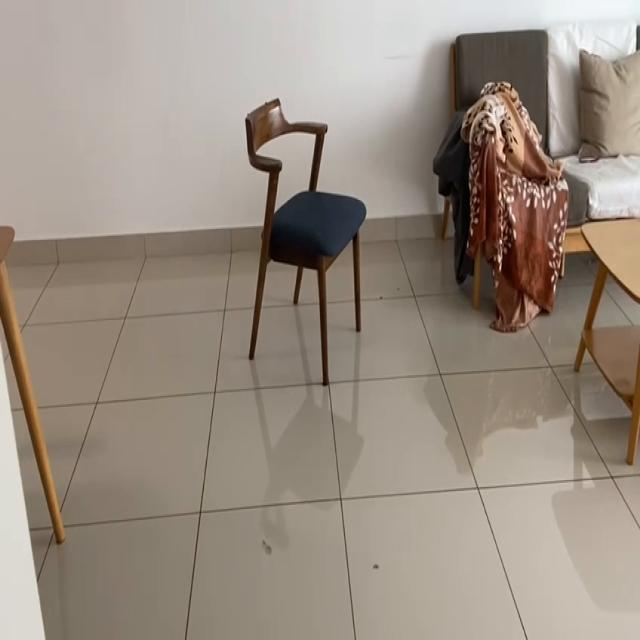Chair: (230, 91, 378, 387)
